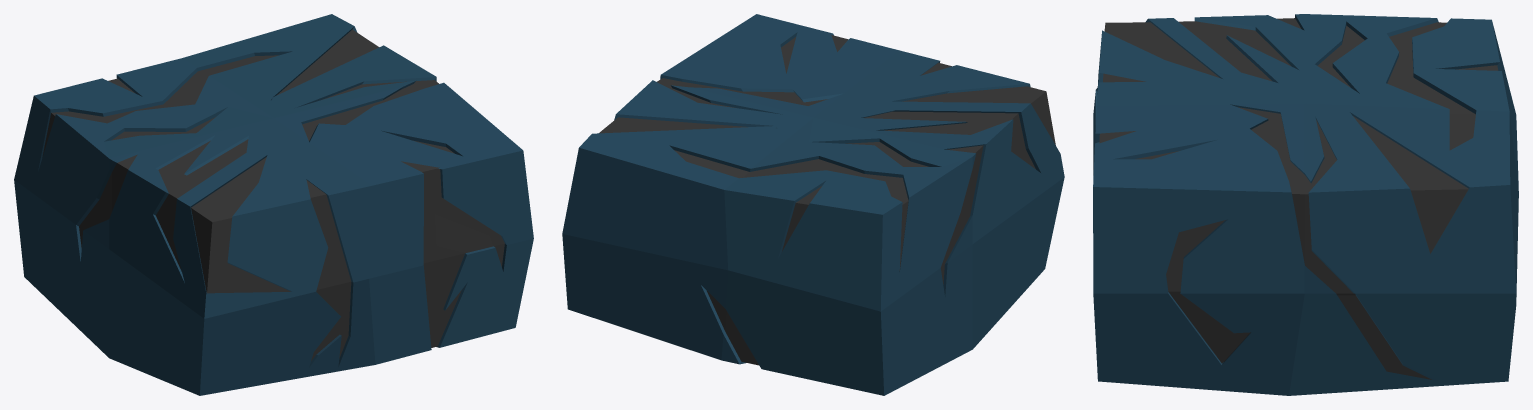
The model's file is TileSpaceBlueBroken.fbx.
3 views of the same model, side by side, from view 1: azimuth 30°, elevation 25°; view 2: azimuth 150°, elevation 25°; view 3: azimuth 270°, elevation 25° (orthographic). The views are drawn at different scales.
Visible parts, largest first — view 1: Cube; view 2: Cube; view 3: Cube.
Part boxes in pixels (<box>): Cube: <box>14,14,533,395</box>; Cube: <box>562,14,1064,395</box>; Cube: <box>1093,14,1518,395</box>.
Size of the model in its own units: 190 by 125 by 191.
